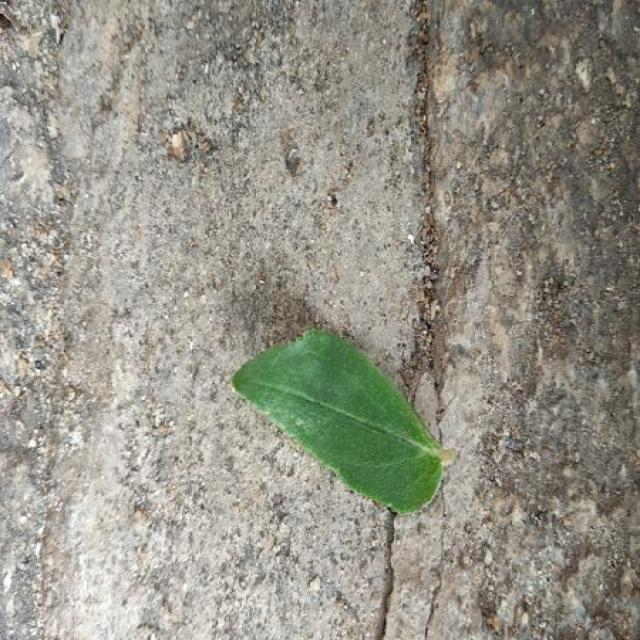Astma_weed: (233, 330, 453, 513)
